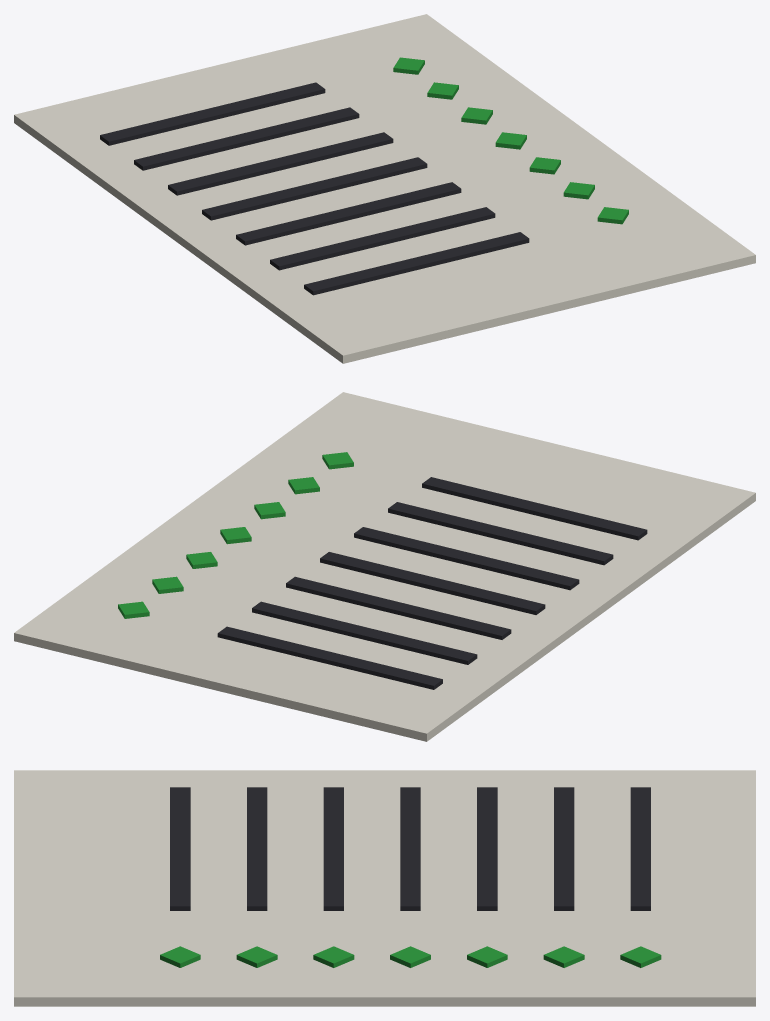
File: gym_lottery_list.glb
The picture shows the model from 3 angles, top to bottom: view 1: azimuth 30°, elevation 25°; view 2: azimuth 150°, elevation 25°; view 3: azimuth 270°, elevation 25°; orthographic projection. The views are drawn at different scales.
Visible parts, largest first — view 1: paper_sheet_paper, lines_sheet_ink (×7); view 2: paper_sheet_paper, lines_sheet_ink (×7); view 3: paper_sheet_paper, lines_sheet_ink (×7), clovers_clover_green (×7).
Part boxes in pixels (x1,y1,x2,y2): paper_sheet_paper: (14, 14, 755, 363); lines_sheet_ink (×7): (100, 82, 529, 295); paper_sheet_paper: (14, 392, 755, 741); lines_sheet_ink (×7): (217, 477, 647, 689); paper_sheet_paper: (14, 770, 755, 1006); lines_sheet_ink (×7): (170, 787, 650, 910); clovers_clover_green (×7): (160, 946, 661, 967).
Size of the model in its own units: 0.21 by 0.006 by 0.29.
